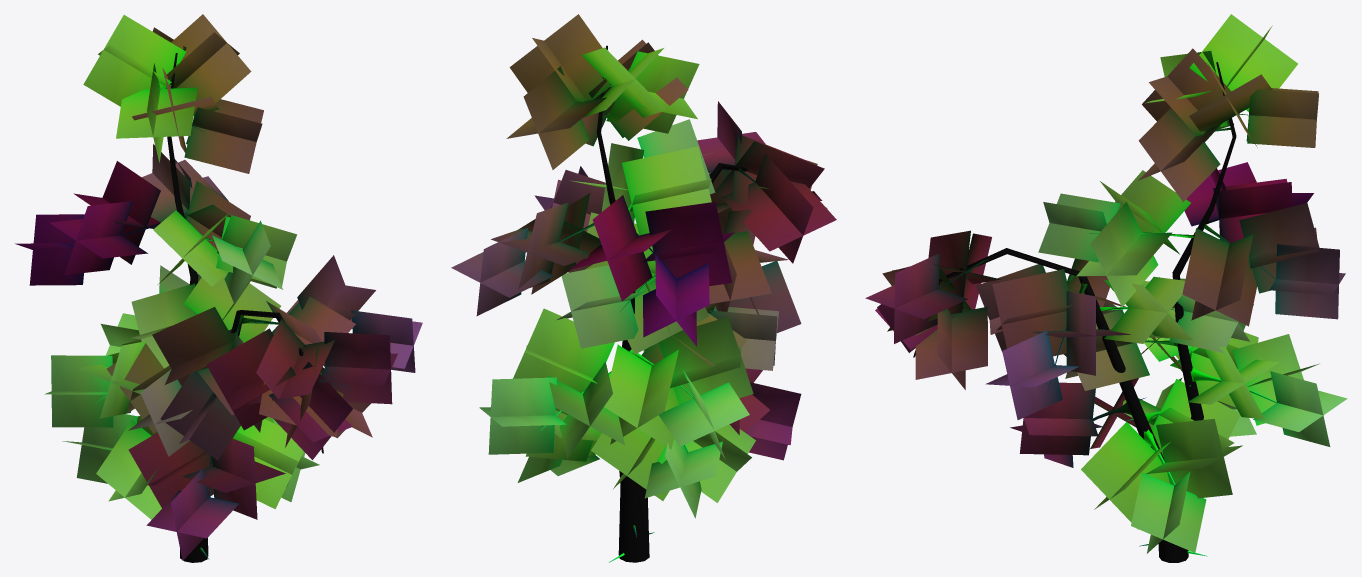
File: URP_P7_Tree_14_LOD_2.fbx
3 renders of one model, left to right at view 1: azimuth 30°, elevation 25°; view 2: azimuth 150°, elevation 25°; view 3: azimuth 270°, elevation 25°, orthographic. The views are drawn at different scales.
Parts seen in each view (by area): view 1: Tree_14_LOD_2; view 2: Tree_14_LOD_2; view 3: Tree_14_LOD_2.
Boxes of the visible parts, left/top/right/bottom form: Tree_14_LOD_2: left=15, top=14, right=422, bottom=562; Tree_14_LOD_2: left=451, top=14, right=836, bottom=562; Tree_14_LOD_2: left=865, top=14, right=1347, bottom=562.
Size of the model in its own units: 274 by 464 by 389.
